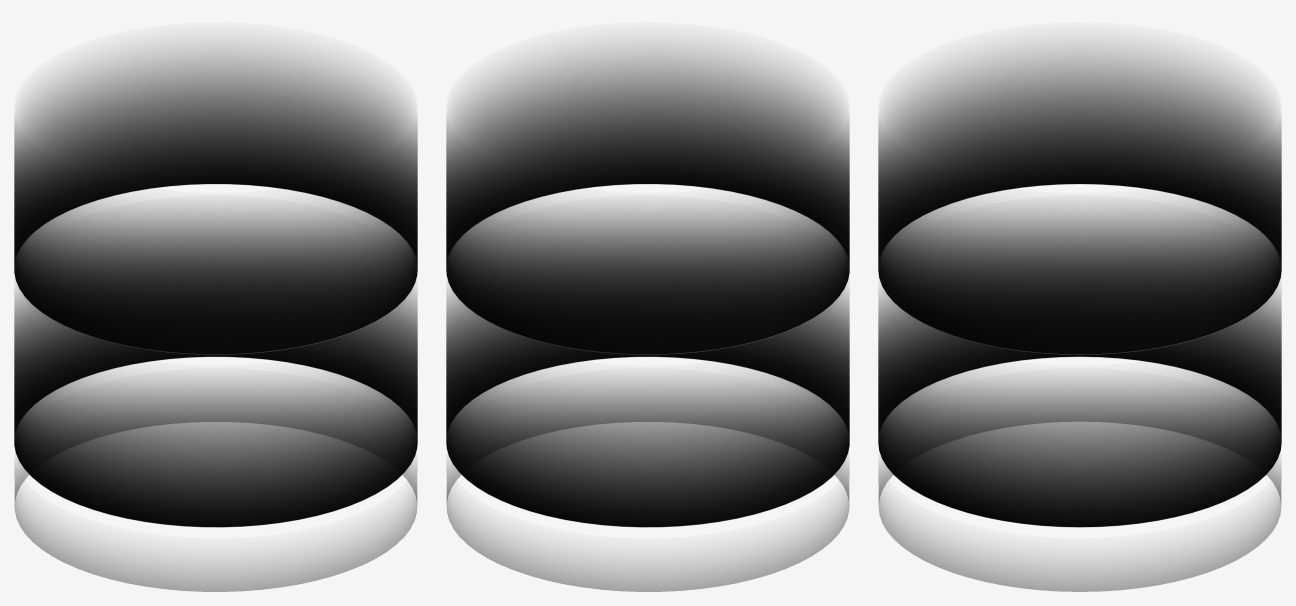
Rendered from cup_in_shad.gltf.
The picture shows the model from 3 angles, left to right: view 1: azimuth 30°, elevation 25°; view 2: azimuth 150°, elevation 25°; view 3: azimuth 270°, elevation 25°; orthographic projection.
Visible parts, largest first — view 1: shado; view 2: shado; view 3: shado.
Boxes of the visible parts, x1,y1,x2,y2 form: shado: [14, 46, 417, 591]; shado: [446, 46, 849, 591]; shado: [878, 46, 1281, 591].
Size of the model in its own units: 0.0744 by 0.0829 by 0.0744.
Materials: 1 (1 with a texture image).
